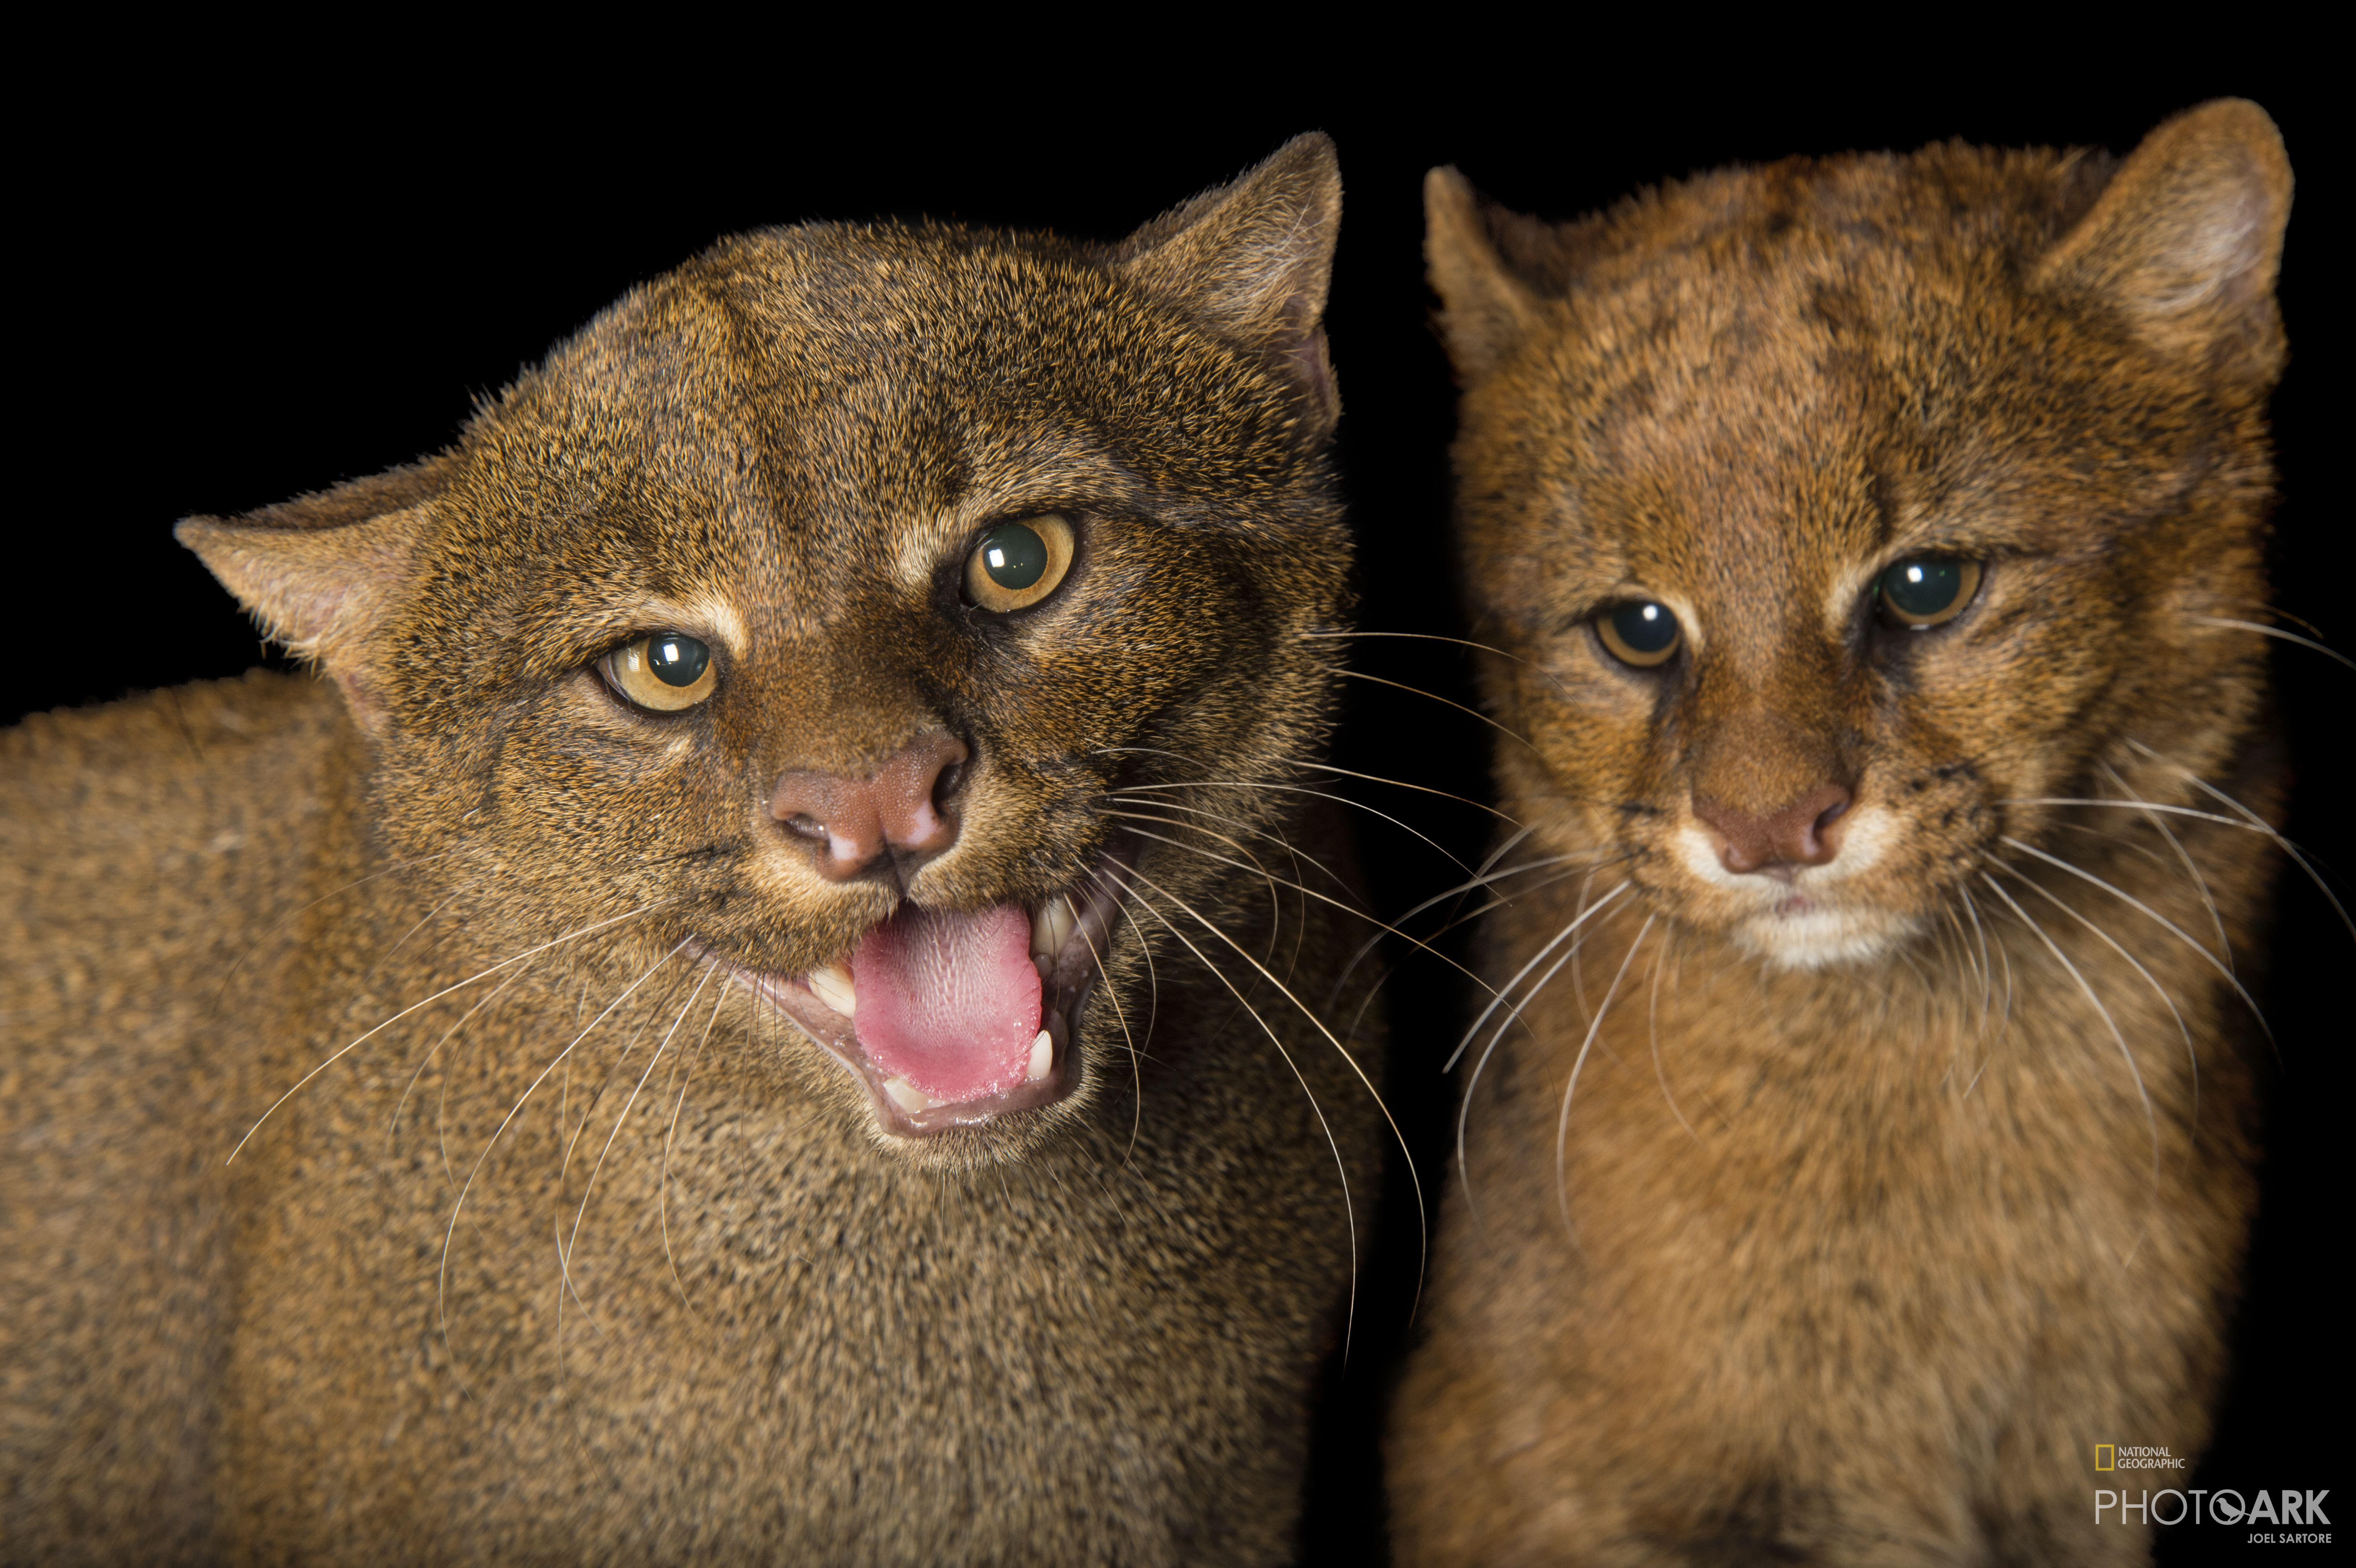Jaguarundi: (171, 136, 1392, 1493), (1420, 103, 2319, 1395)
